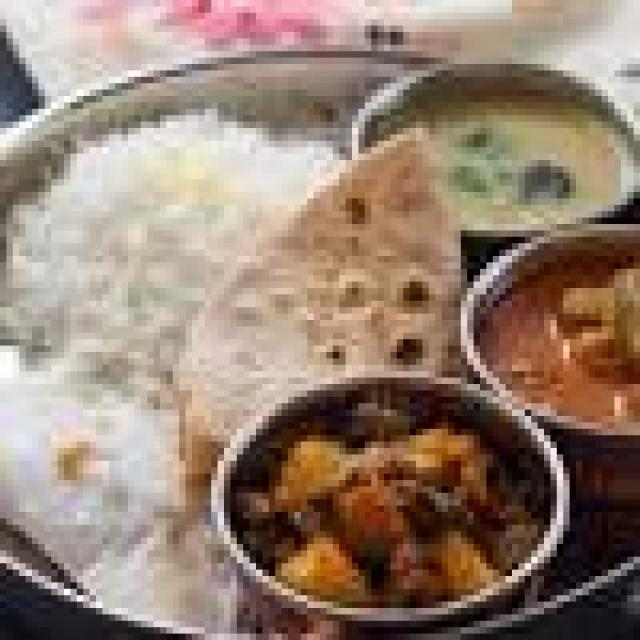dal: (377, 84, 637, 240), (464, 229, 632, 436)
